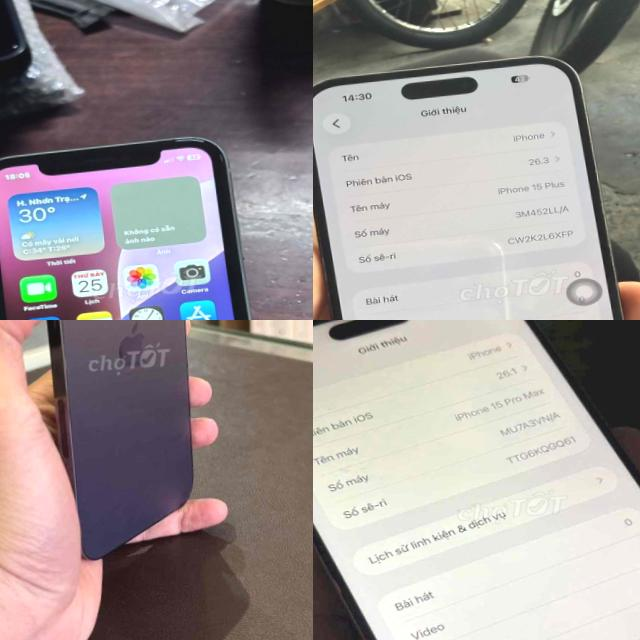gen_14: (16, 320, 208, 565)
gen_15: (313, 320, 640, 640), (313, 40, 640, 320)
gen_x_xs: (0, 125, 290, 320)
